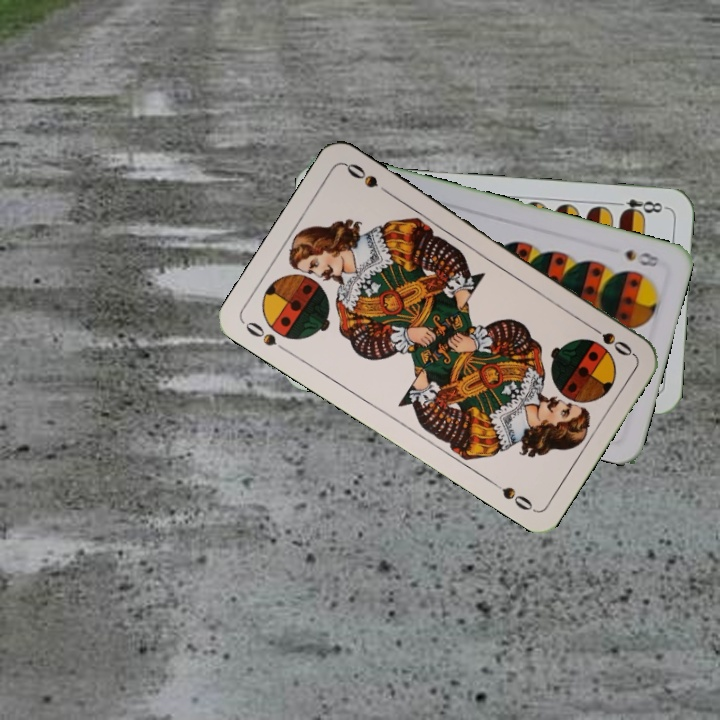E8: (609, 195, 668, 219)
S8: (620, 245, 663, 270)
SO: (583, 320, 637, 359), (241, 317, 293, 356)
